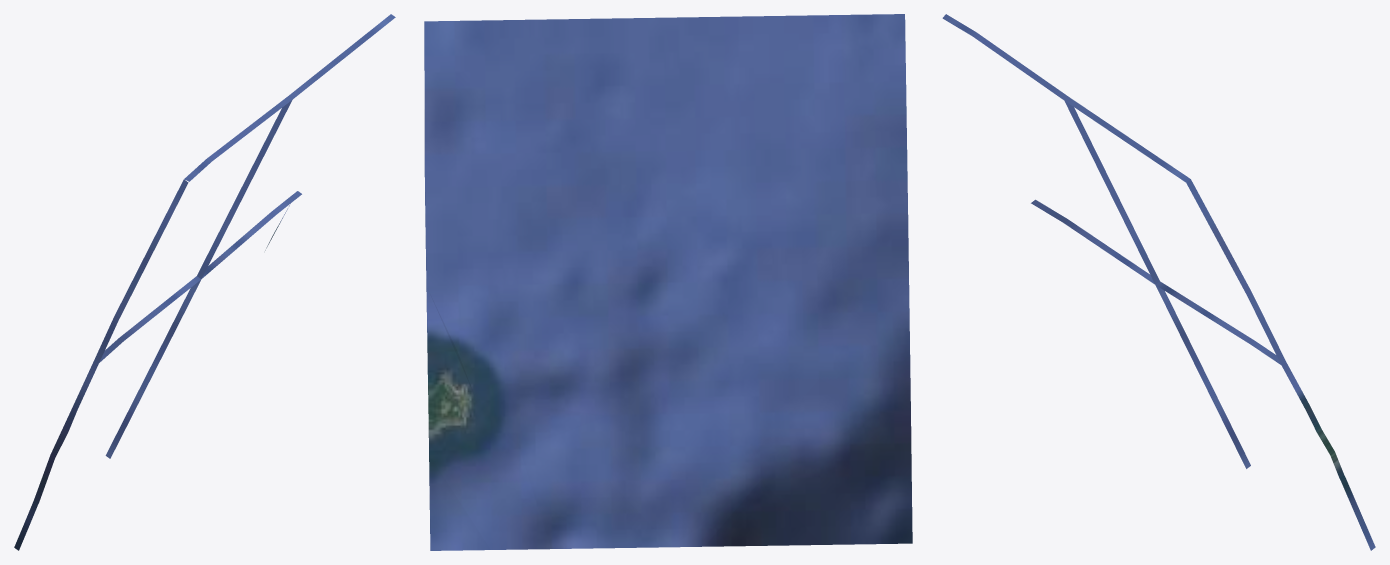
3 renders of one model, left to right at view 1: azimuth 30°, elevation 25°; view 2: azimuth 150°, elevation 25°; view 3: azimuth 270°, elevation 25°, orthographic. The views are drawn at different scales.
Size of the model in its own units: 19297 by 18165 by 16772.
1 material, 1 textured.
